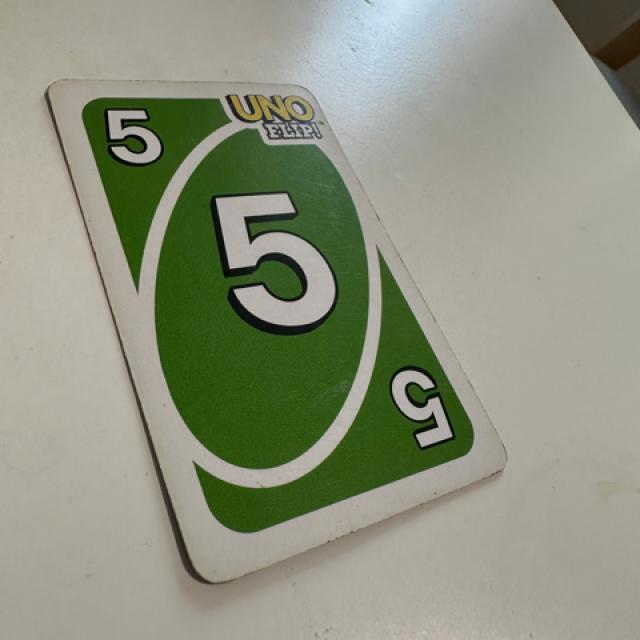lgreen-5: (78, 88, 174, 189)
